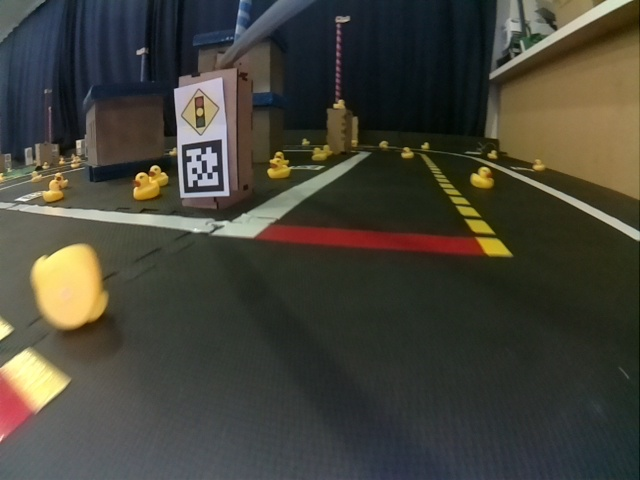Duckie: (31, 245, 107, 330), (134, 173, 158, 200), (470, 167, 494, 186), (42, 182, 63, 202), (149, 166, 168, 186), (268, 159, 289, 177), (312, 148, 326, 161), (55, 173, 67, 187), (275, 153, 289, 165), (533, 159, 544, 170), (401, 147, 412, 157), (334, 99, 344, 109), (30, 173, 42, 181), (301, 138, 311, 147), (488, 150, 497, 159), (324, 146, 333, 155), (380, 142, 389, 150), (422, 142, 430, 151)
QR code: (181, 140, 225, 194)
Signal sign: (180, 87, 219, 136)
